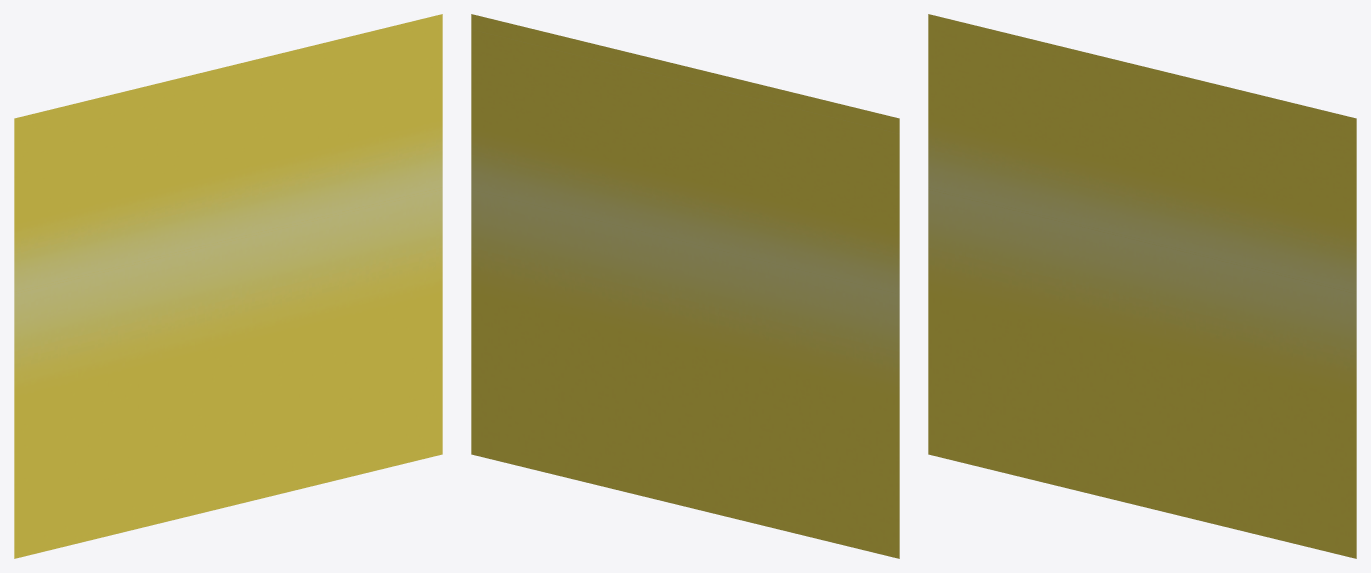
File: coinsWonWheelEffect.fbx
3 renders of one model, left to right at view 1: azimuth 30°, elevation 25°; view 2: azimuth 150°, elevation 25°; view 3: azimuth 330°, elevation 25°, orthographic.
Parts seen in each view (by area): view 1: flamesDown, flames (×2); view 2: flamesDown, flames (×2); view 3: flamesDown, flames (×2).
Part boxes in pixels (x1,y1,x2,y2): flamesDown: (14, 190, 442, 558); flames (×2): (14, 14, 442, 293); flamesDown: (471, 190, 899, 558); flames (×2): (471, 14, 899, 293); flamesDown: (928, 189, 1356, 558); flames (×2): (928, 14, 1356, 293).
Bounding box in the file's own units: 11 × 10.81 × 4.77e-07.
